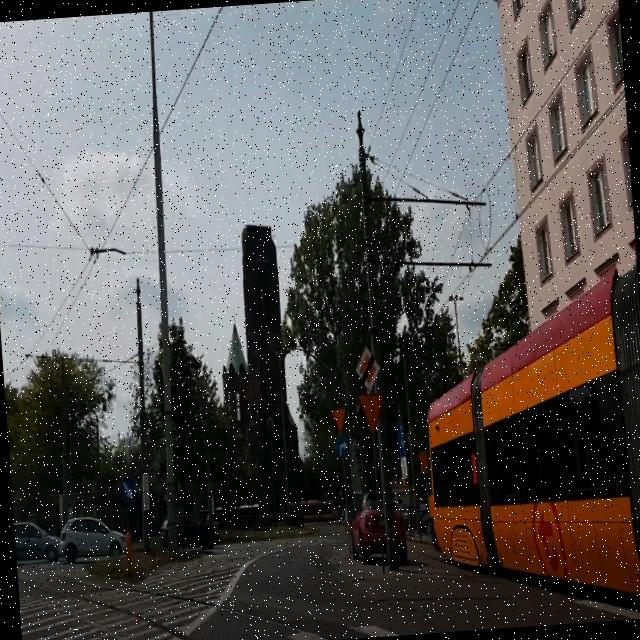Ustap pierwszenstwa: (357, 392, 385, 434), (330, 406, 347, 434), (418, 452, 430, 476)
